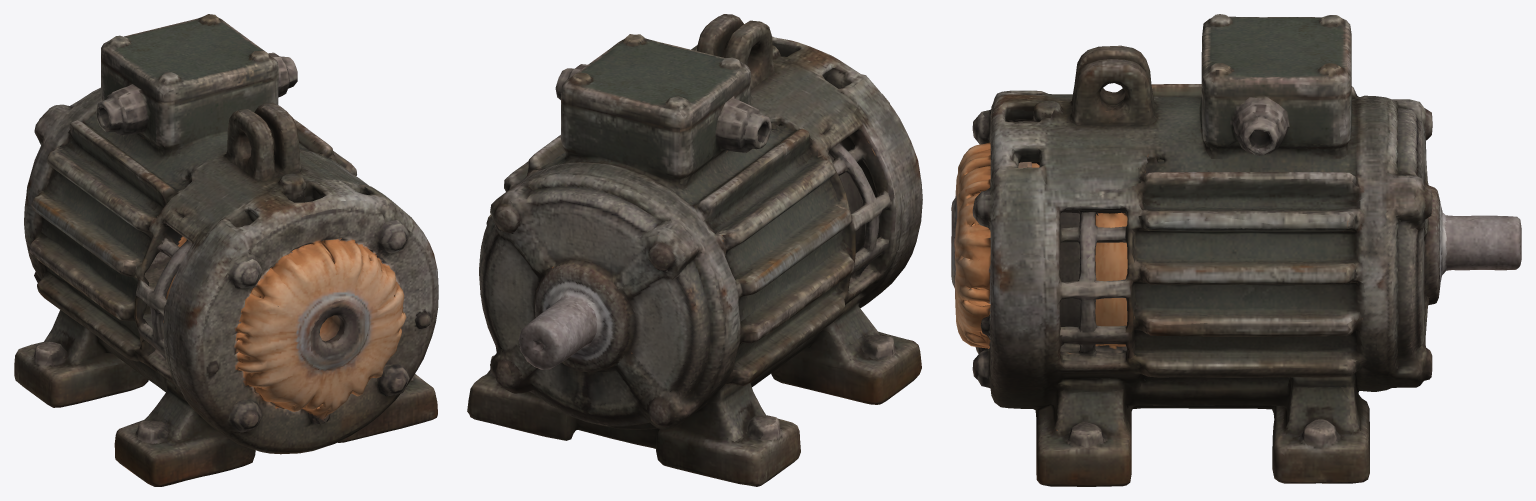
File: raw.glb
3 renders of one model, left to right at view 1: azimuth 30°, elevation 25°; view 2: azimuth 150°, elevation 25°; view 3: azimuth 270°, elevation 25°, orthographic. The views are drawn at different scales.
Bounding box in the file's own units: 0.6554 × 0.7249 × 1.01.
Materials: 1 (1 with a texture image).
